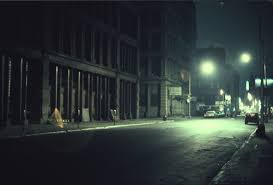strada: (0, 123, 271, 184)
